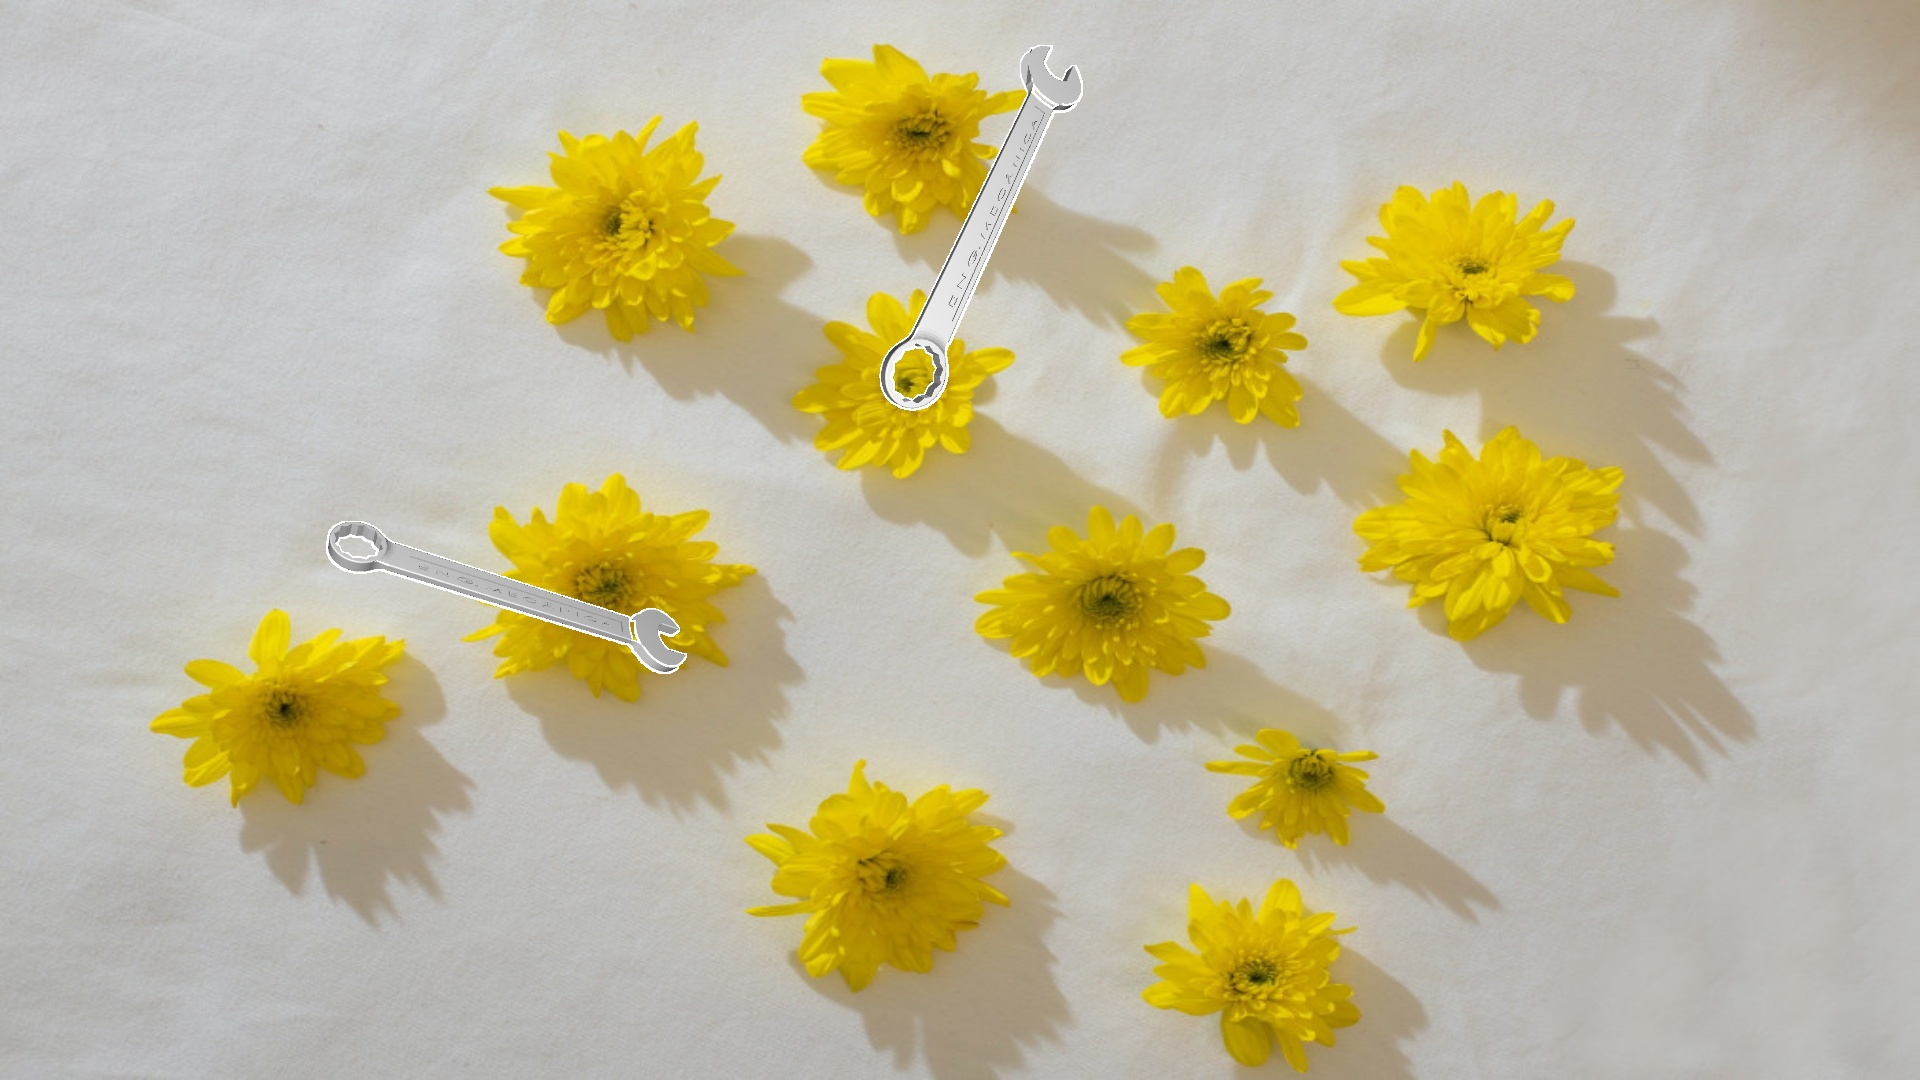Mixed Key: (880, 45, 1083, 410), (326, 521, 686, 673)
